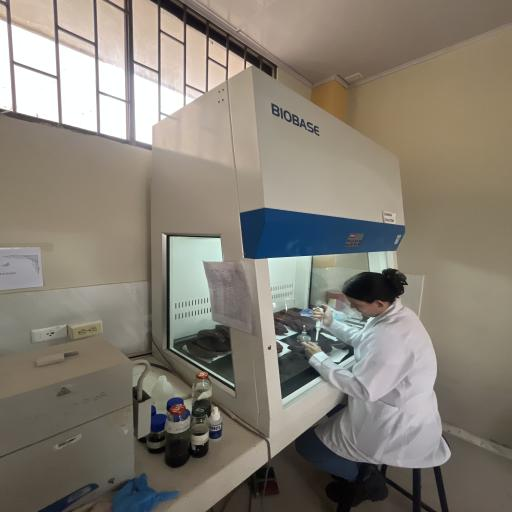Camara_Extractora_Biobase: (136, 61, 428, 453)
